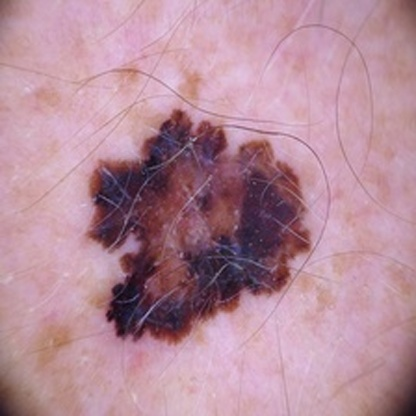malignant: (80, 117, 336, 317)
